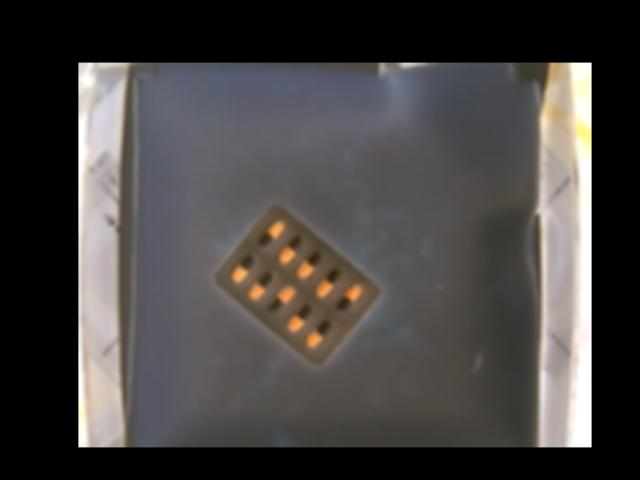Medicine: (210, 205, 382, 368)
